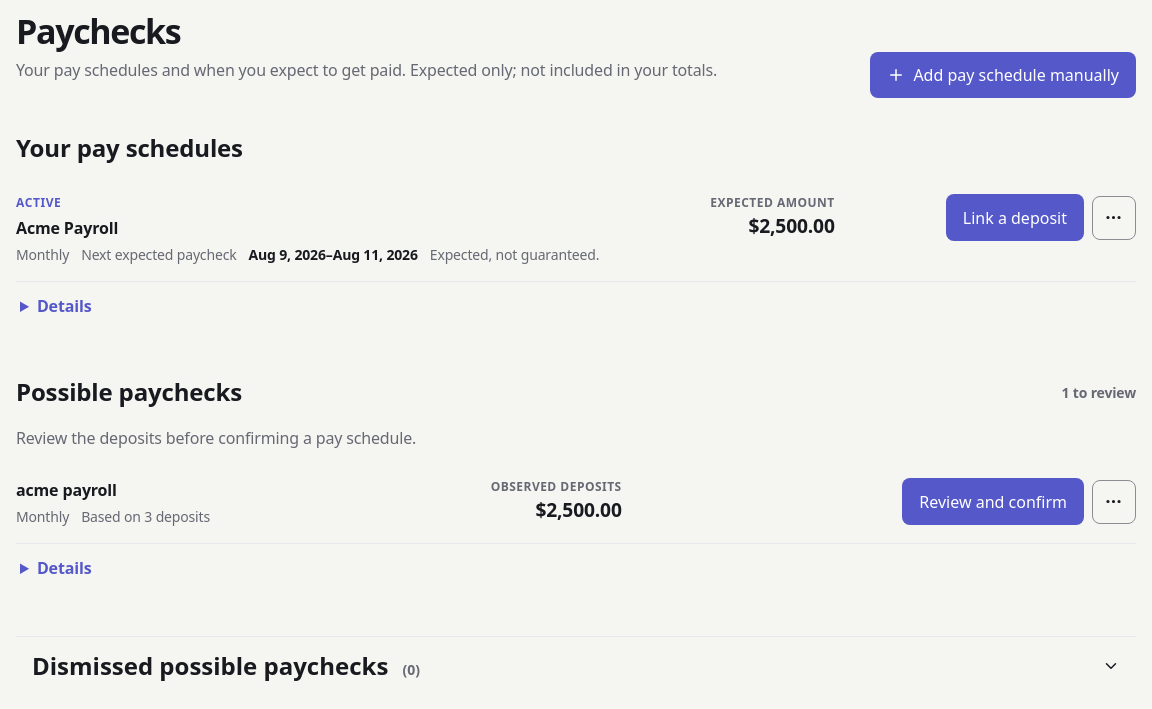
Test: Paychecks page › clears an orphaned end confirmation when the refresh shows the profile already ended
Expected: the heading "Your pay schedules" is shown, x1=16 y1=130 x2=243 y2=166
Click the heading named "Details for Acme Payroll".
click(64, 306)  # box x1=37 y1=295 x2=91 y2=317
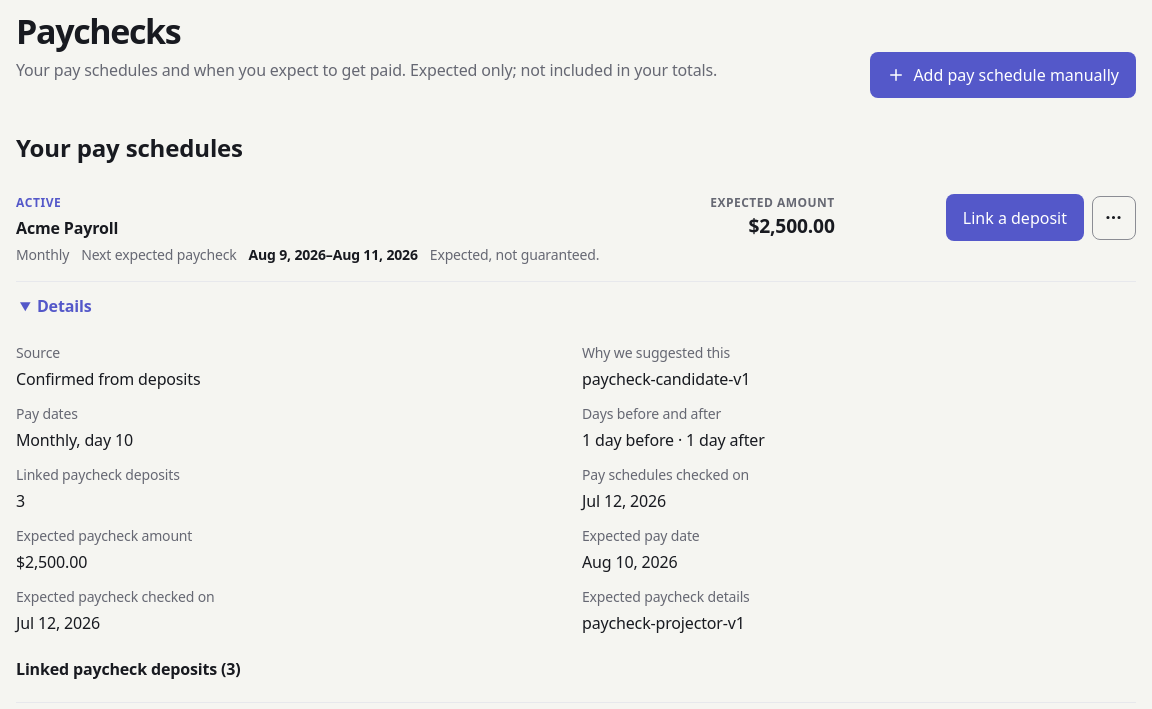
Click the button named "Actions for Acme Payroll".
click(1114, 218)  # box x1=1092 y1=196 x2=1136 y2=240
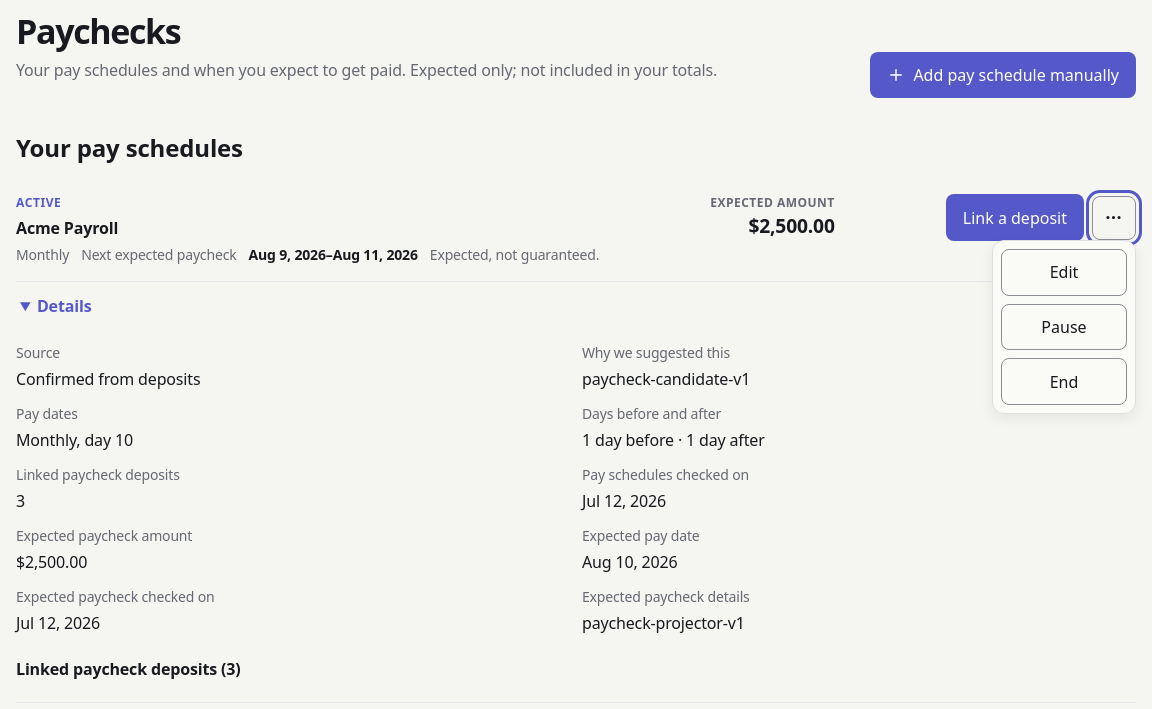
Click the button with aria-label "End Acme Payroll".
click(1064, 382)  # box x1=1001 y1=358 x2=1127 y2=405
(page scrolled)
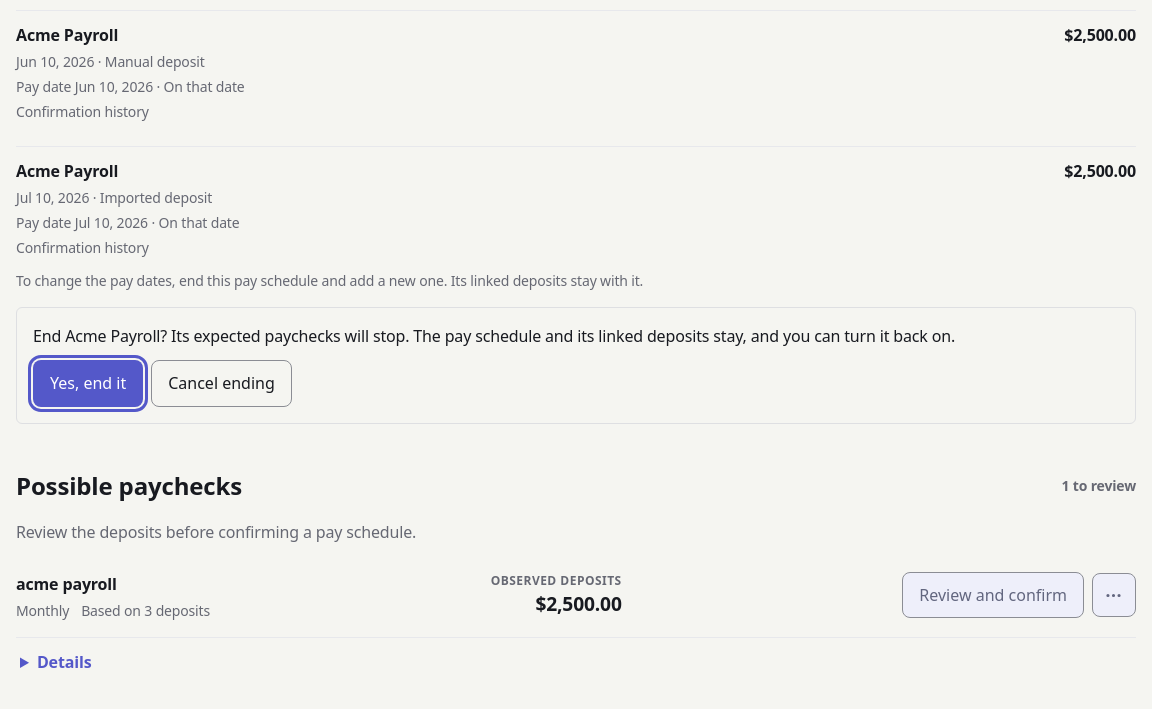
Click the button "Yes, end it".
click(88, 383)  # box x1=33 y1=360 x2=143 y2=407
(page scrolled)
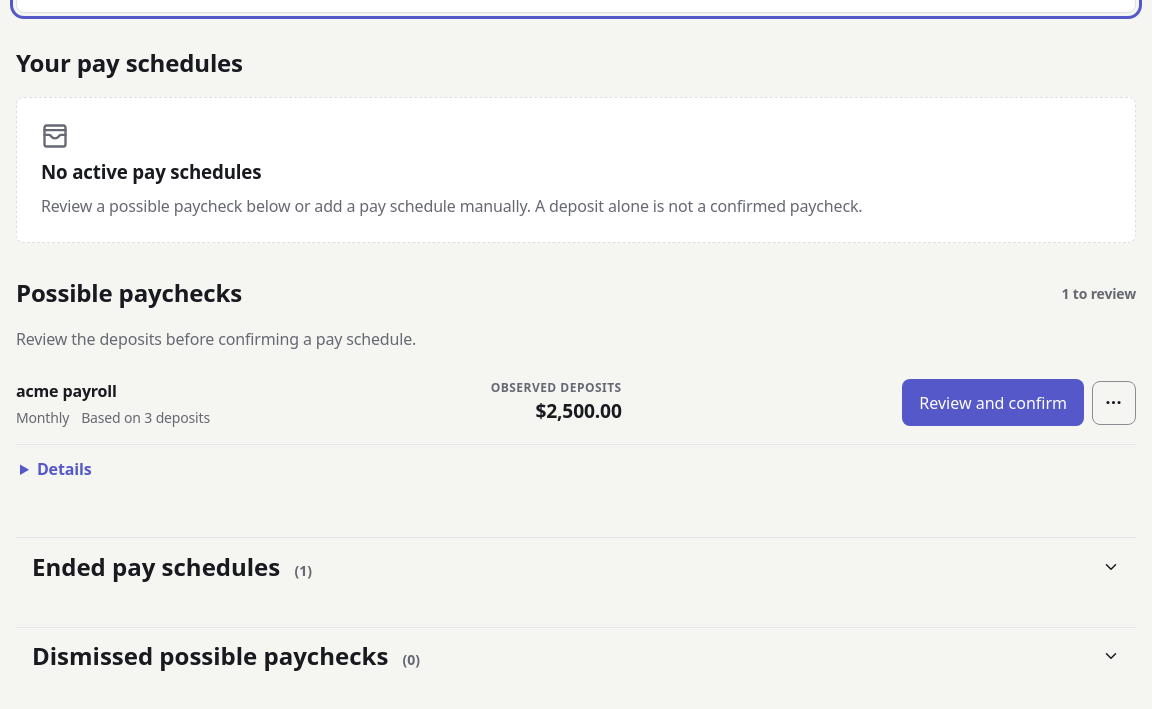
Expected: the text "End Acme Payroll" is gone
Expected: the button with aria-label "Review and confirm: acme payroll" is enabled, x1=902 y1=379 x2=1084 y2=426
Expected: the heading "Ended pay schedules (1)" is shown, x1=16 y1=538 x2=1136 y2=595
